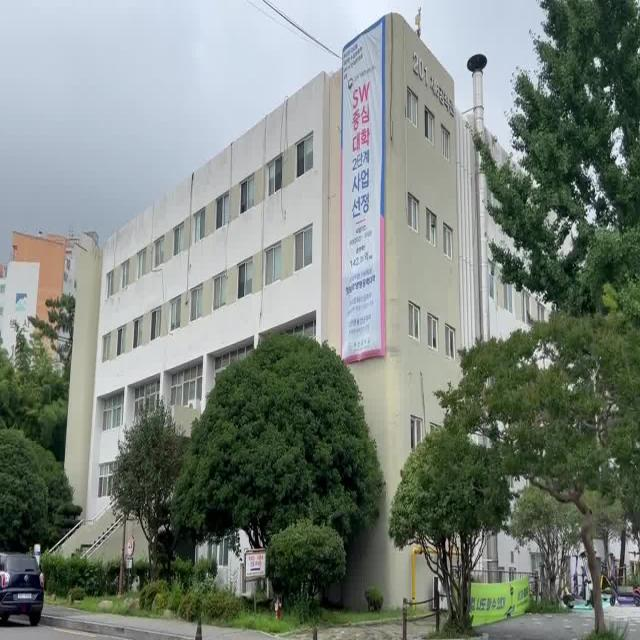building: (84, 120, 340, 346)
